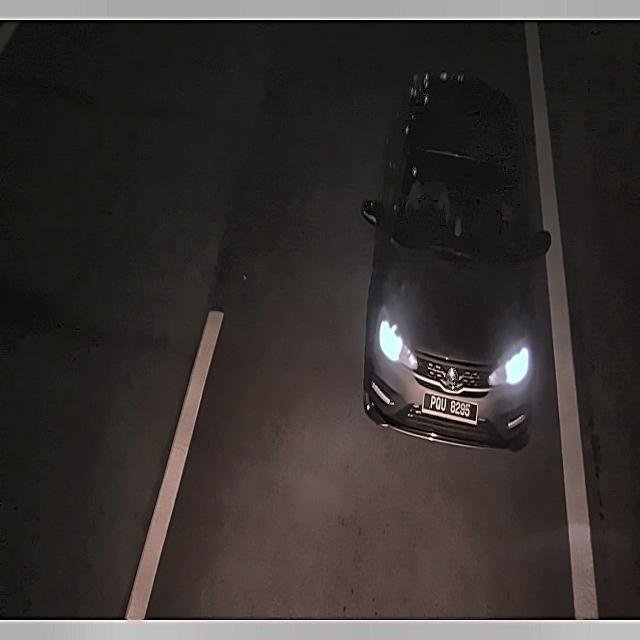car: (420, 386, 483, 429)
